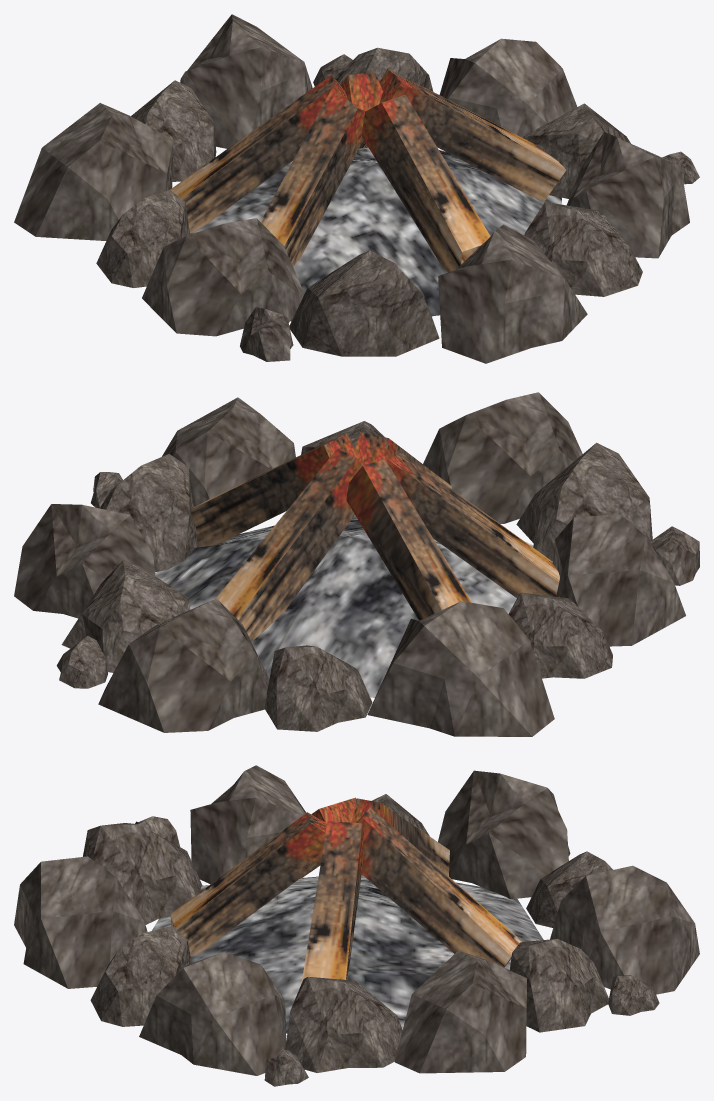
The model's file is campfire.fbx.
The picture shows the model from 3 angles, top to bottom: view 1: azimuth 30°, elevation 25°; view 2: azimuth 150°, elevation 25°; view 3: azimuth 270°, elevation 25°; orthographic projection. The views are drawn at different scales.
Visible parts, largest first — view 1: rockSmall; view 2: rockSmall; view 3: rockSmall.
Part boxes in pixels (<box>): rockSmall: <box>14,14,699,363</box>; rockSmall: <box>14,392,699,736</box>; rockSmall: <box>14,765,699,1086</box>.
Bounding box in the file's own units: 8.42 × 9.29 × 2.24.
4 materials, 4 textured.
